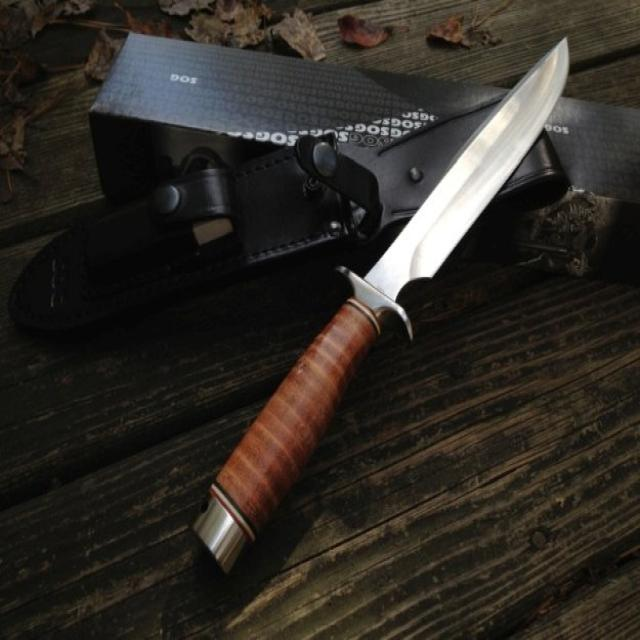knife: (178, 33, 578, 590)
